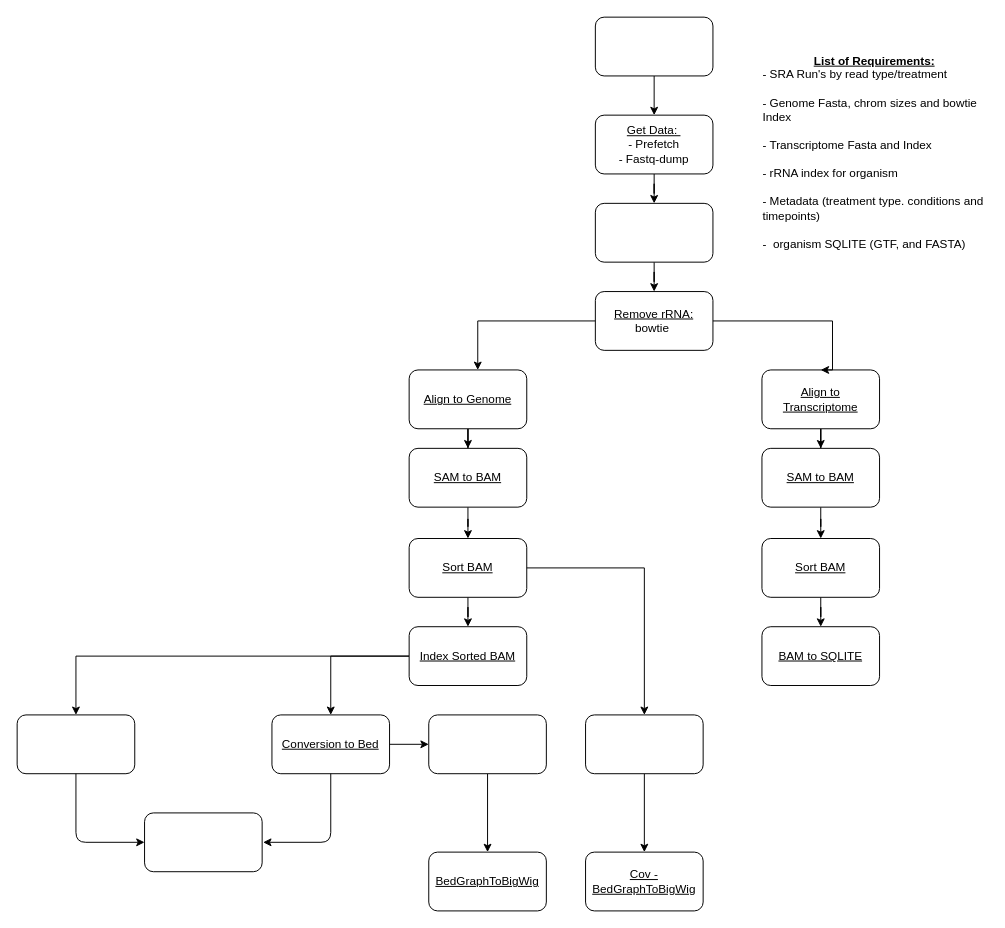
Image size: 1005x928. Some labels were removed from this diagram. Each missing label, with the centre of its shape:
"Conversion to BigWig" goes at pixel 203 842.
"Conversion to Cov" goes at pixel 75 744.
"Coverage Aggregates" goes at pixel 644 744.
"Get Requirments: - metadata from run selector - references" goes at pixel 653 46.
"Profile aggregates" goes at pixel 487 744.
"Remove Adapters: - cutadapt - (get_adapters.py)" goes at pixel 653 232.
